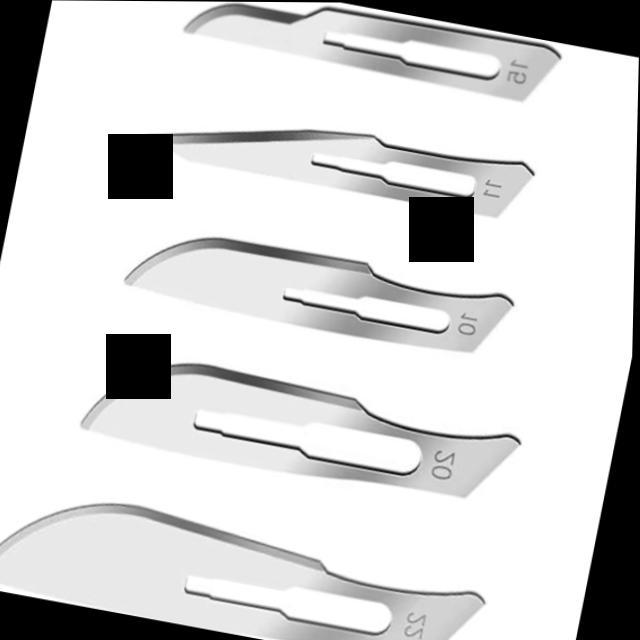Surgical blade: (71, 324, 536, 514), (0, 471, 496, 640), (126, 72, 548, 232), (110, 210, 518, 366), (176, 1, 568, 111)
